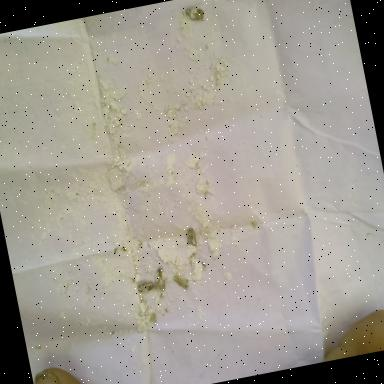pbw: (151, 268, 168, 292), (185, 5, 206, 24), (173, 272, 190, 290), (185, 226, 198, 248), (137, 280, 155, 293), (148, 312, 158, 326)
